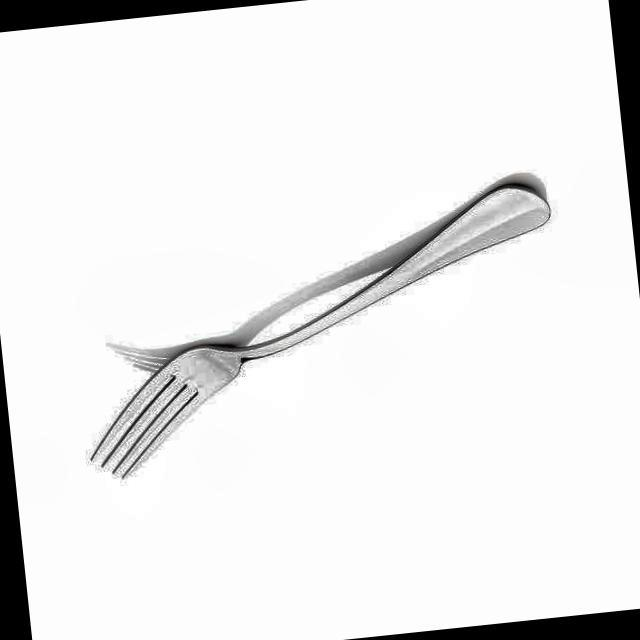Fork: (90, 184, 549, 478)
